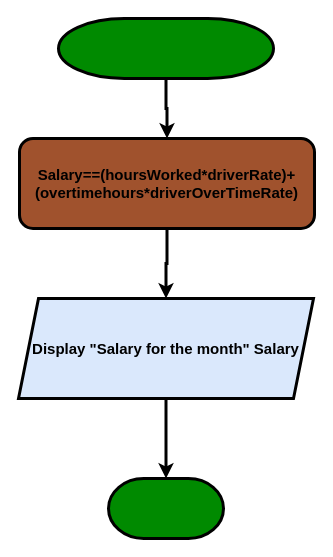
Some shapes in this 333 by 557 pixel diagram are drawn without their labels. The shapes that lost their labels are listed below. From the top down, each one's centre as x and y in pixels, then its label:
At point 165,48: "TeamSalaryTruckDrivers()".
At point 165,508: "Return Salary".
